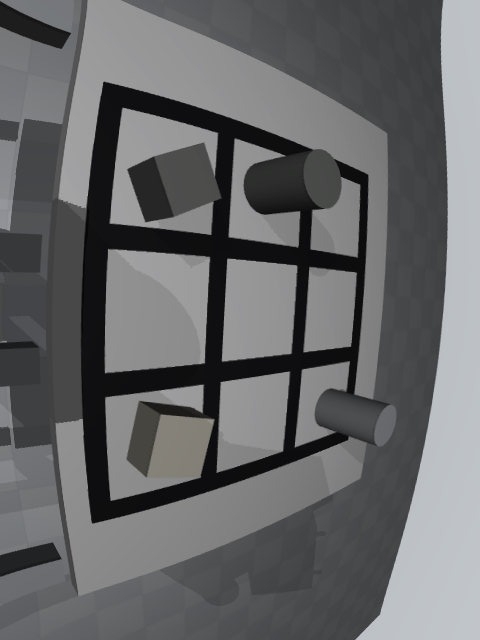can: (315, 389, 397, 447)
cube: (128, 142, 222, 222)
cylinder: (244, 149, 342, 215)
foam: (127, 401, 215, 478)
